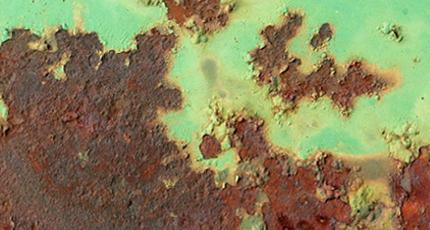rust: (3, 28, 200, 230), (240, 130, 430, 223), (249, 17, 389, 109)
